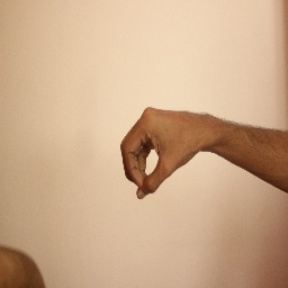O: (117, 104, 206, 201)
